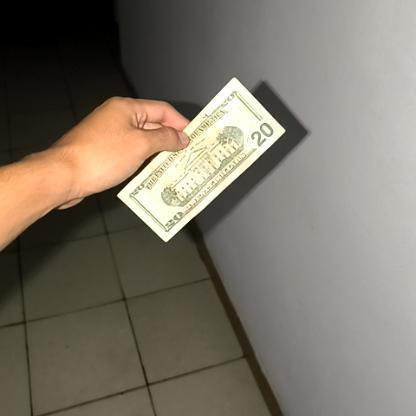twenty-back: (115, 76, 286, 244)
